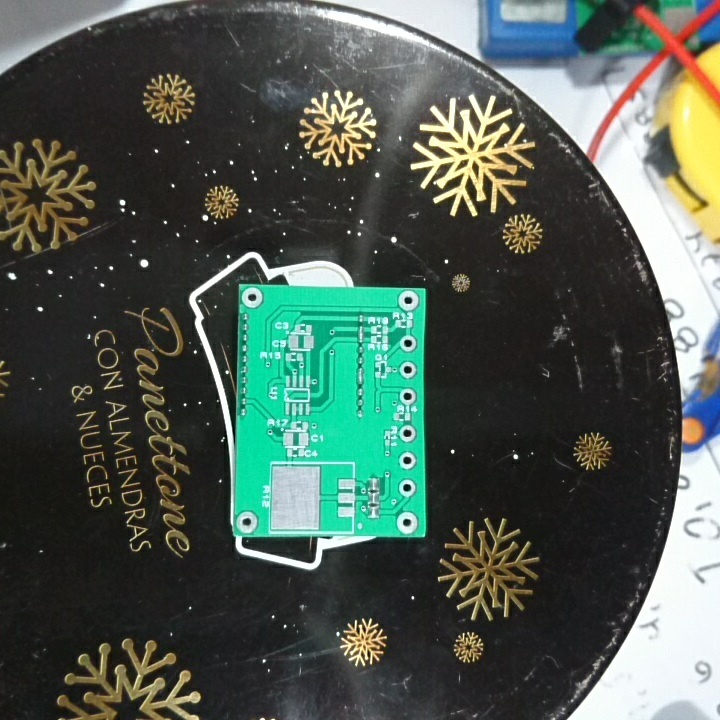F: (394, 511, 421, 536), (396, 288, 422, 311), (235, 508, 258, 533), (241, 286, 265, 309), (399, 334, 419, 354), (397, 423, 417, 443), (397, 451, 417, 470), (399, 360, 418, 379), (398, 386, 418, 404), (399, 478, 417, 497)
P: (355, 366, 366, 385), (356, 324, 365, 344)
